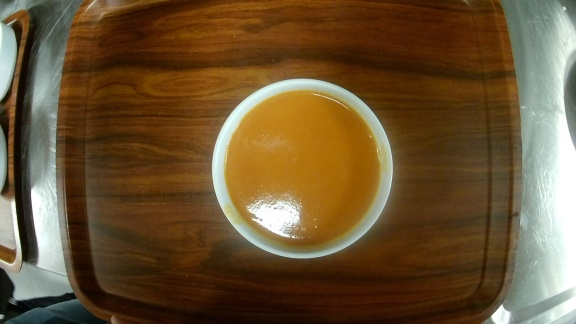domatescorba: (207, 77, 395, 260)
